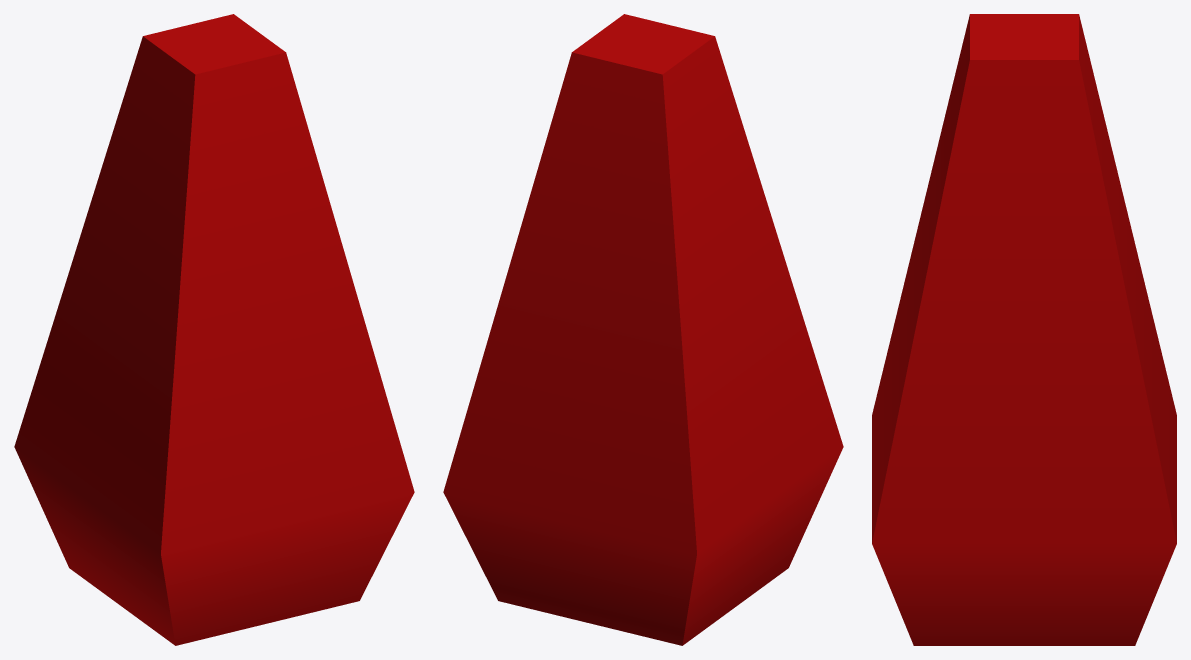
Rendered from SM_Env_Bush_Palm_02_Collision.gltf.
The picture shows the model from 3 angles, left to right: view 1: azimuth 30°, elevation 25°; view 2: azimuth 150°, elevation 25°; view 3: azimuth 270°, elevation 25°; orthographic projection. The views are drawn at different scales.
Visible parts, largest first — view 1: SM_Env_Bush_Palm_02_Collision; view 2: SM_Env_Bush_Palm_02_Collision; view 3: SM_Env_Bush_Palm_02_Collision.
Boxes of the visible parts, left/top/right/bottom form: SM_Env_Bush_Palm_02_Collision: left=14, top=14, right=414, bottom=645; SM_Env_Bush_Palm_02_Collision: left=443, top=14, right=843, bottom=645; SM_Env_Bush_Palm_02_Collision: left=872, top=14, right=1176, bottom=645.
Size of the model in its own units: 0.5811 by 1.18 by 0.5811.
